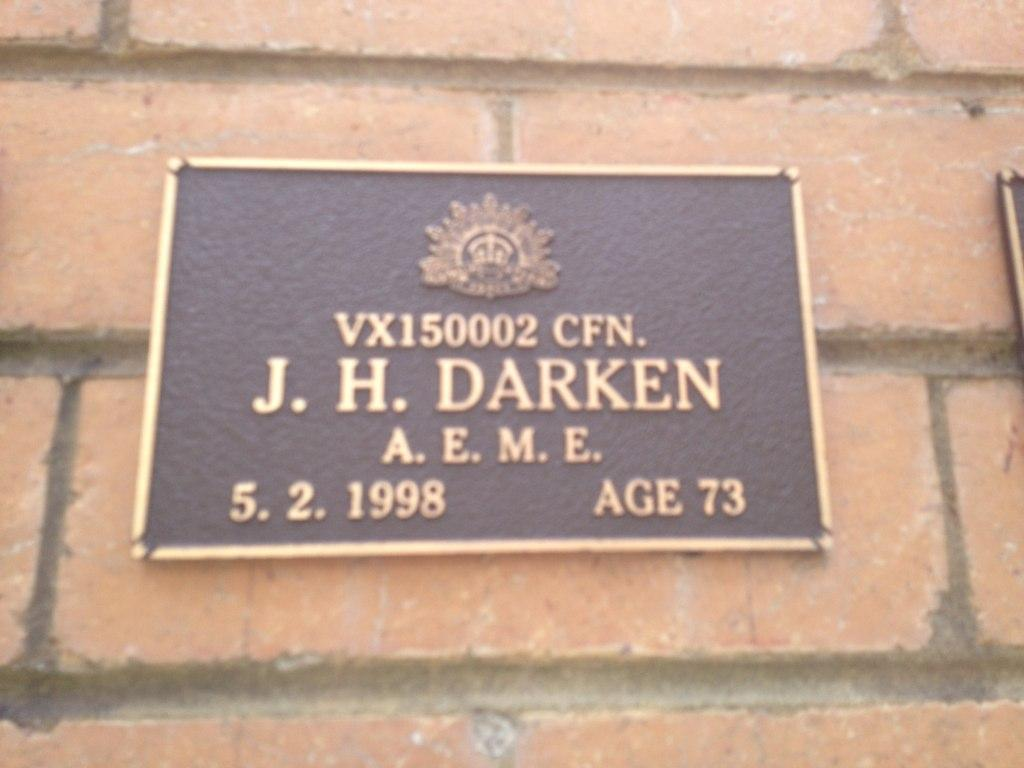plaque: (126, 141, 844, 568)
